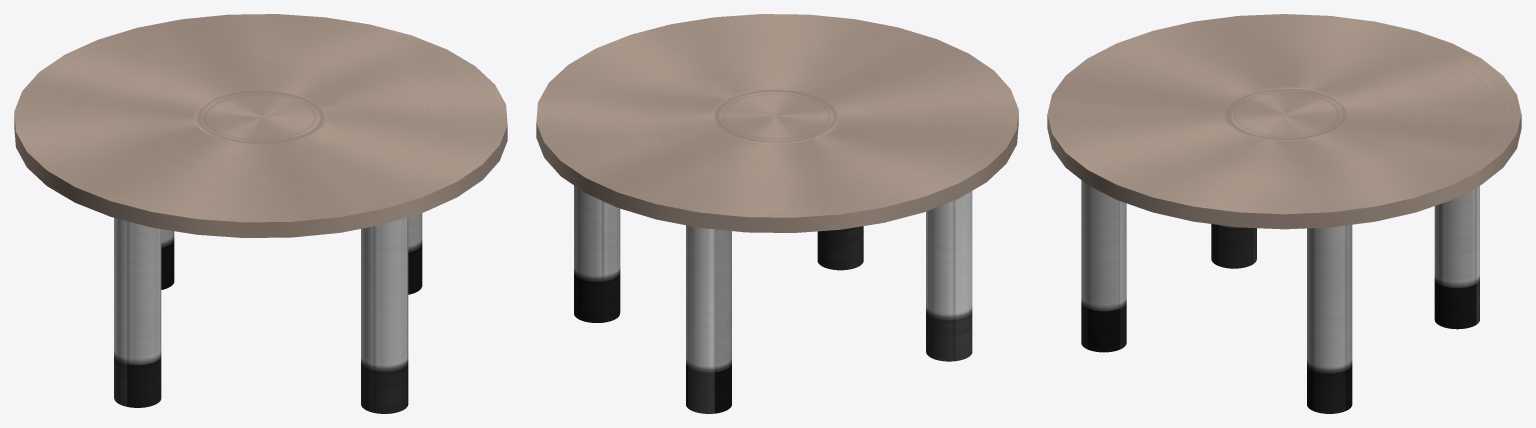
Rendered from circular_table.glb.
3 views of the same model, side by side, from view 1: azimuth 30°, elevation 25°; view 2: azimuth 150°, elevation 25°; view 3: azimuth 270°, elevation 25° (orthographic). The views are drawn at different scales.
Visible parts, largest first — view 1: Cilindro; view 2: Cilindro; view 3: Cilindro.
Boxes of the visible parts, box(x1,y1,x2,y2) form: Cilindro: box(14, 14, 507, 413); Cilindro: box(536, 14, 1018, 413); Cilindro: box(1047, 14, 1521, 413).
Size of the model in its own units: 1.27 by 0.6333 by 1.27.
1 material, 1 textured.
